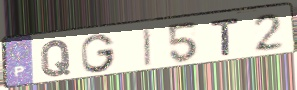2: (252, 11, 286, 54)
5: (166, 19, 200, 65)
G: (79, 32, 118, 74)
I: (141, 26, 153, 68)
Q: (39, 38, 72, 79)
T: (208, 16, 242, 58)
